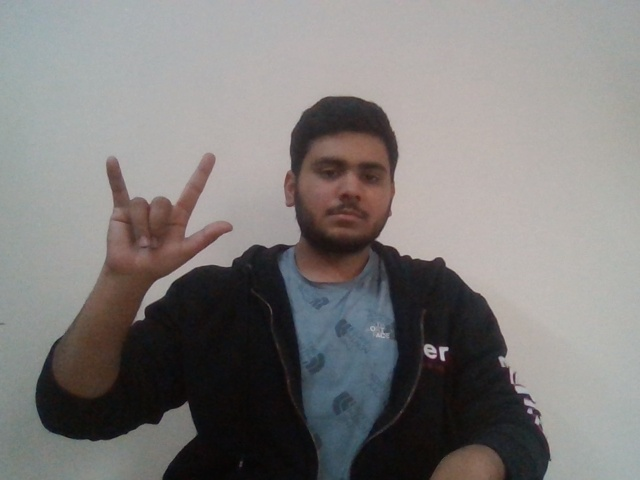IloveYou: (89, 150, 246, 261)
